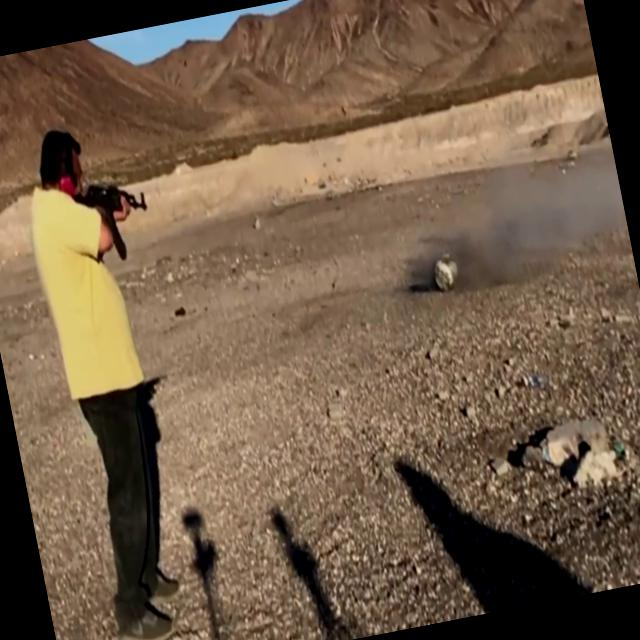long weapon: (52, 163, 180, 280)
